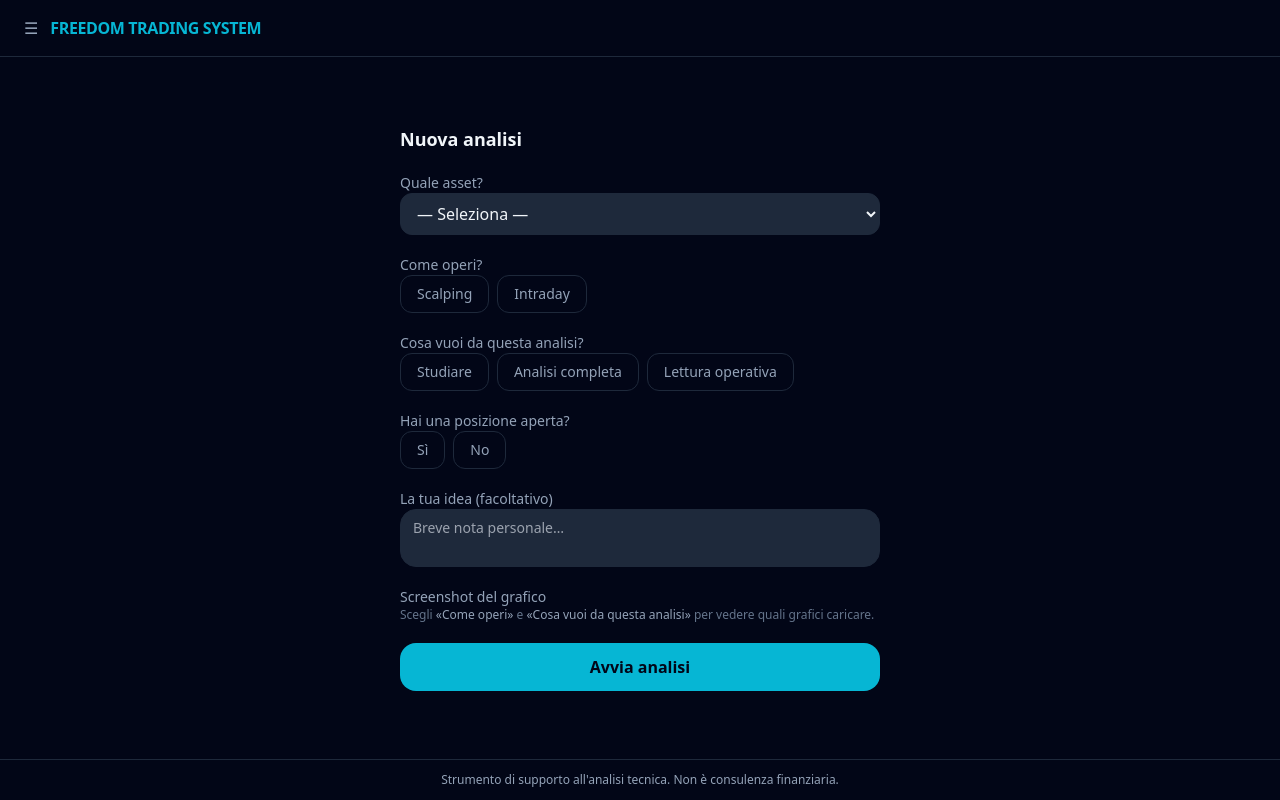
Test case: Chat (pagina) › chiude il menu dal pulsante dedicato
Click the button named "Apri menu".
click(31, 28)  # box [24, 16, 38, 40]
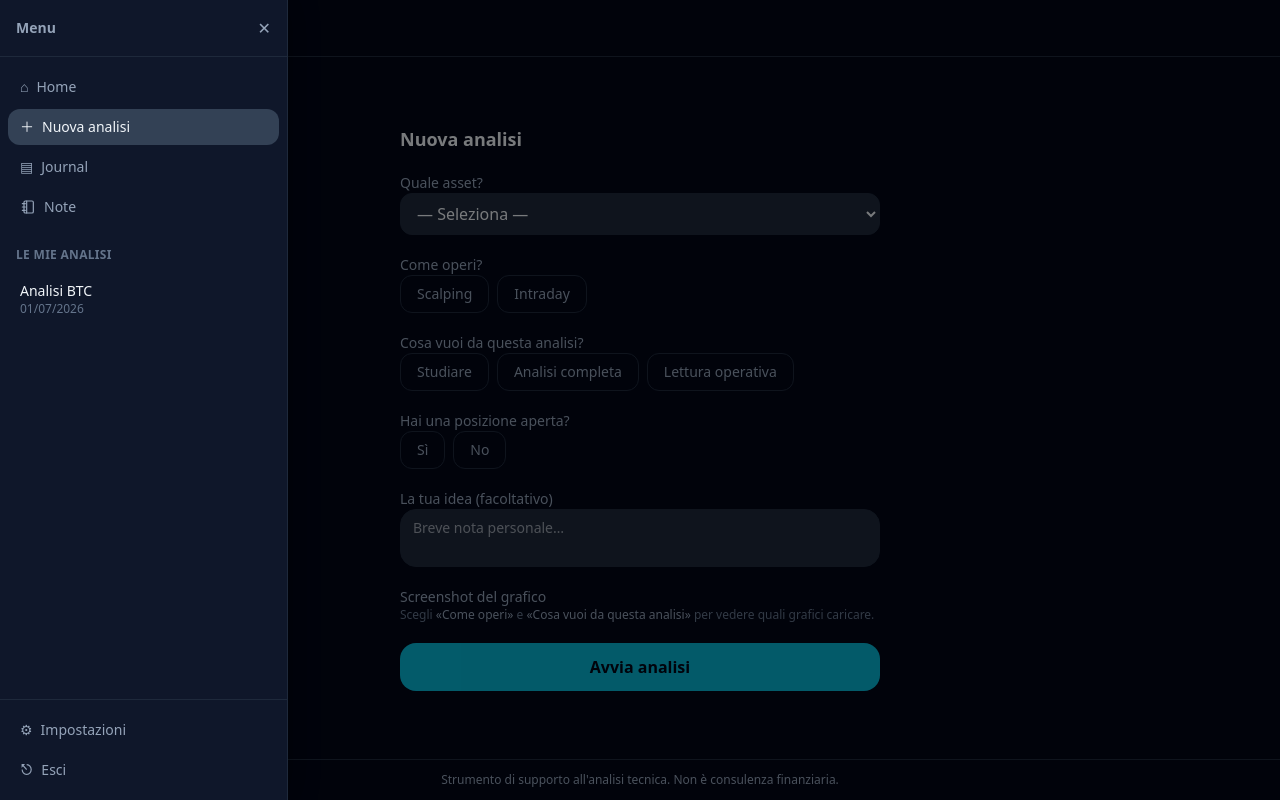
expect the element "Menu" is shown: met, box [0, 0, 288, 799]
Click the button named "Chiudi menu".
click(264, 28)  # box [258, 16, 271, 40]
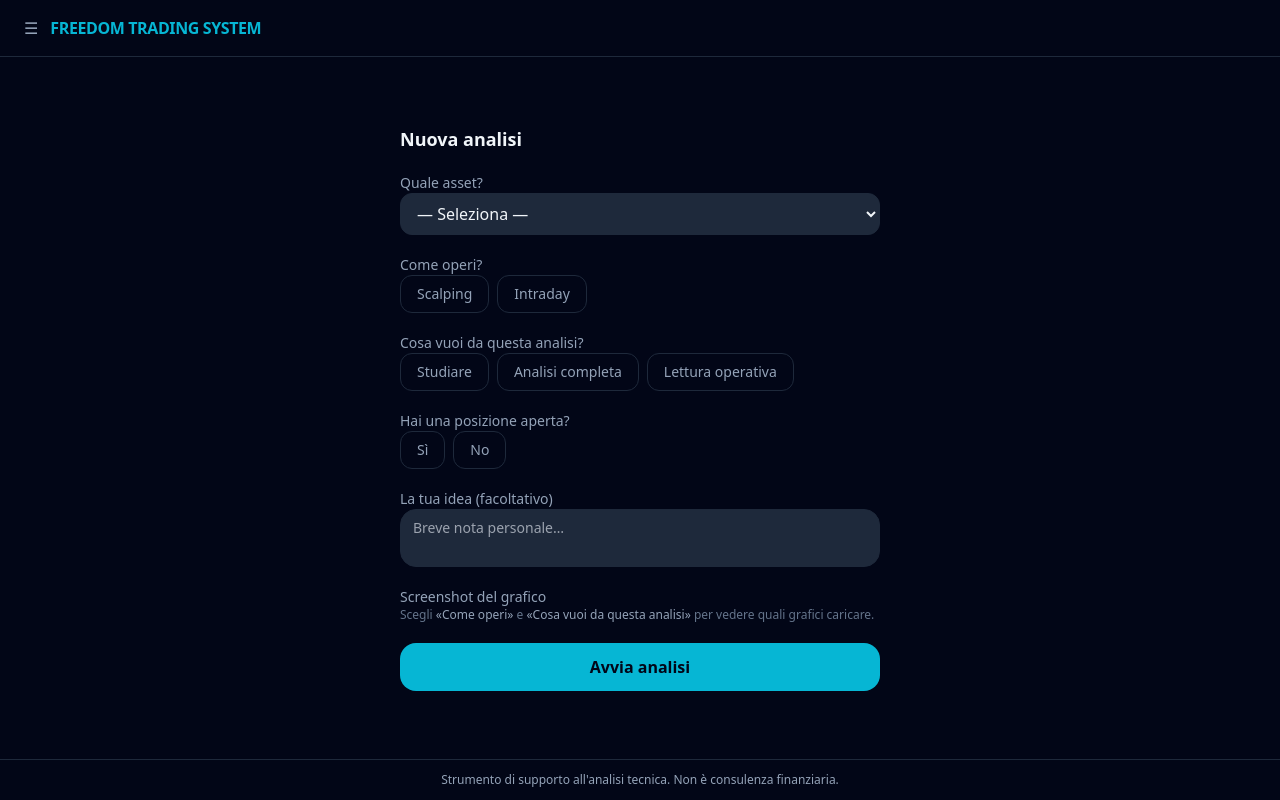
expect the text "Menu" is gone: met
